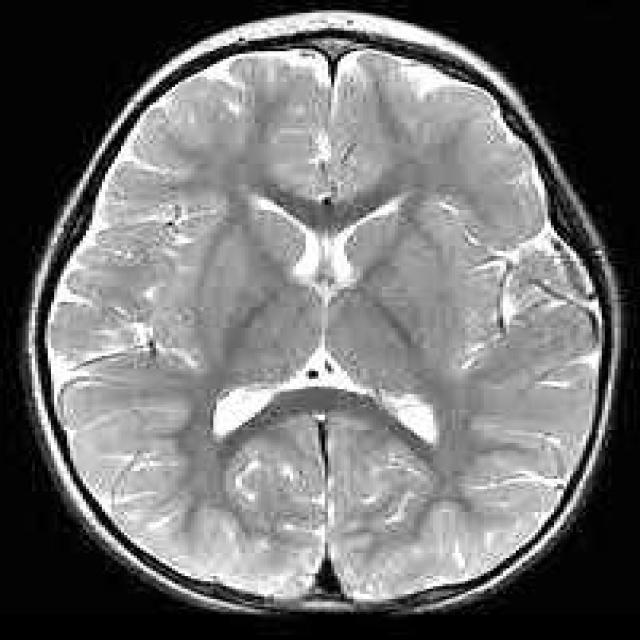notumor: (25, 13, 621, 620)
